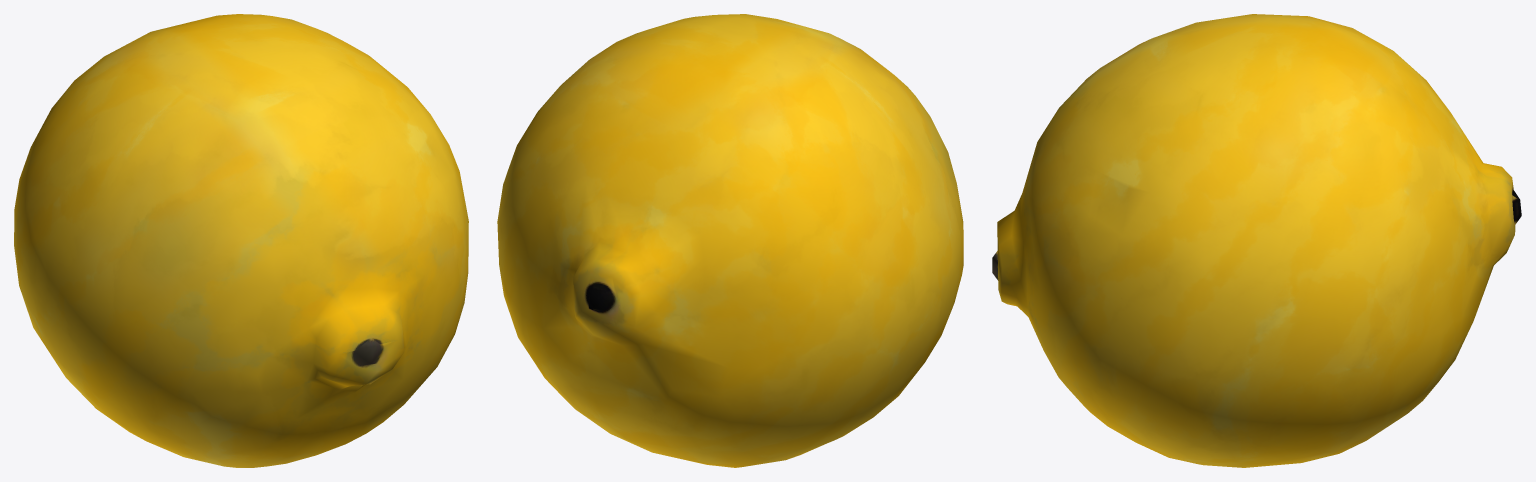
Rendered from lemon.fbx.
3 renders of one model, left to right at view 1: azimuth 30°, elevation 25°; view 2: azimuth 150°, elevation 25°; view 3: azimuth 270°, elevation 25°, orthographic. The views are drawn at different scales.
Visible parts, largest first — view 1: lemon; view 2: lemon; view 3: lemon.
Boxes of the visible parts, box(x1,y1,x2,y2) form: lemon: box(14, 14, 468, 467); lemon: box(497, 14, 963, 467); lemon: box(992, 14, 1521, 467).
Bounding box in the file's own units: 5.78 × 5.64 × 6.67.
